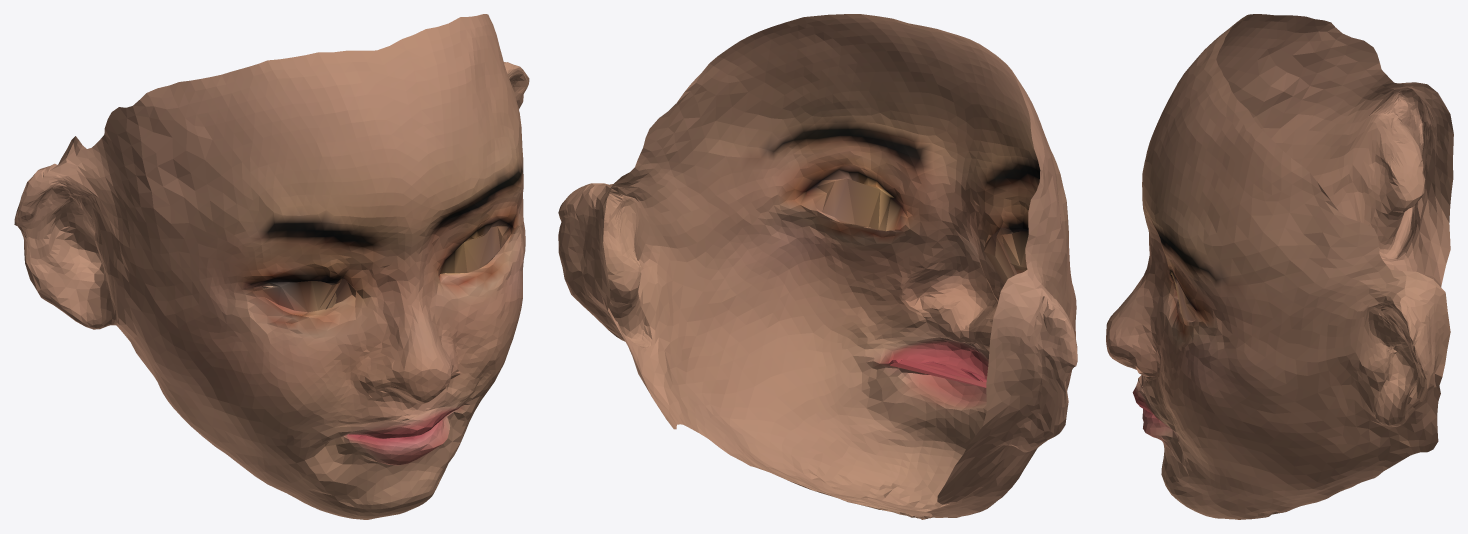
Rendered from seed0005.obj.
3 renders of one model, left to right at view 1: azimuth 30°, elevation 25°; view 2: azimuth 150°, elevation 25°; view 3: azimuth 270°, elevation 25°, orthographic. The views are drawn at different scales.
Size of the model in its own units: 240 by 211 by 147.
